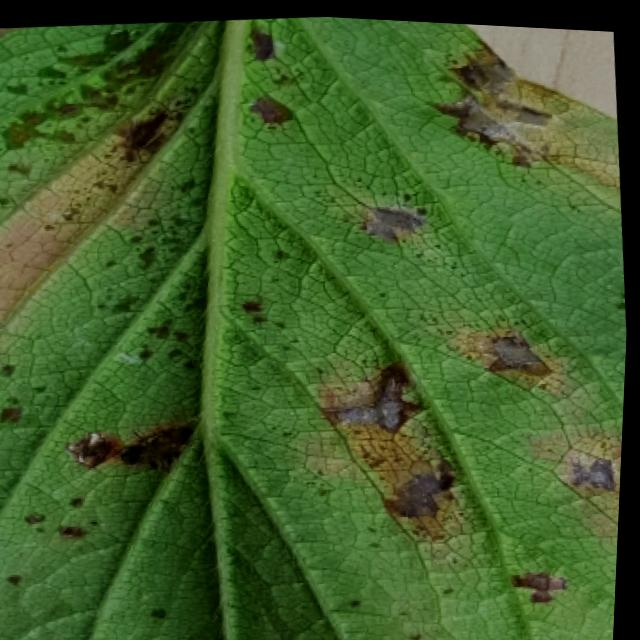Angular Leafspot: (0, 12, 629, 640)
